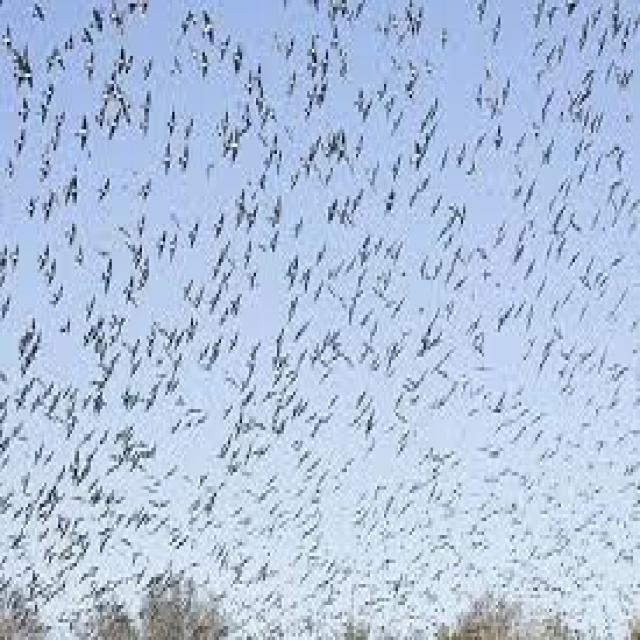bird: (200, 10, 216, 47), (63, 176, 79, 210), (98, 259, 112, 296), (285, 254, 299, 290), (339, 193, 353, 228), (355, 85, 369, 119), (96, 176, 112, 205), (45, 45, 61, 73), (137, 176, 152, 205), (186, 220, 199, 253), (180, 10, 195, 38), (90, 7, 105, 34), (232, 47, 245, 77), (198, 49, 210, 81), (63, 222, 76, 250), (384, 187, 396, 217), (111, 4, 125, 29), (29, 3, 46, 23), (139, 55, 152, 81), (178, 148, 191, 174), (326, 196, 338, 224), (42, 194, 54, 222), (1, 293, 12, 322), (14, 132, 26, 158), (475, 0, 489, 22), (25, 195, 37, 220), (286, 36, 298, 61), (82, 25, 95, 47), (170, 53, 181, 77), (565, 1, 579, 19), (220, 33, 232, 54), (108, 120, 119, 141), (44, 83, 55, 104), (64, 34, 75, 54), (19, 96, 30, 115)
